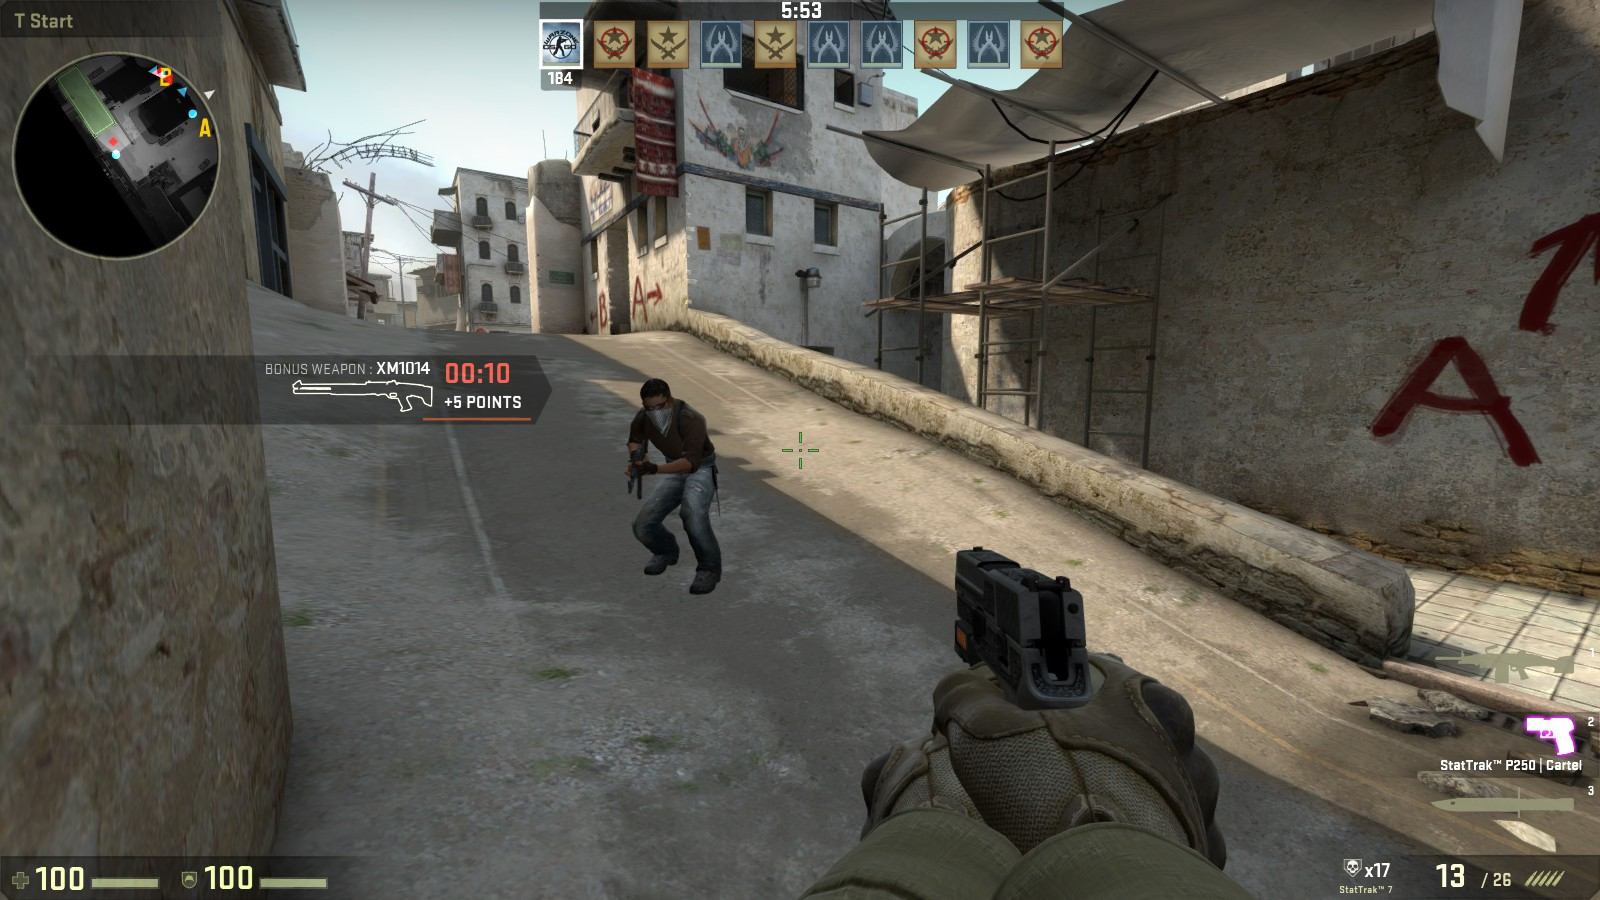t: (627, 376, 716, 591)
th: (638, 378, 678, 423)
